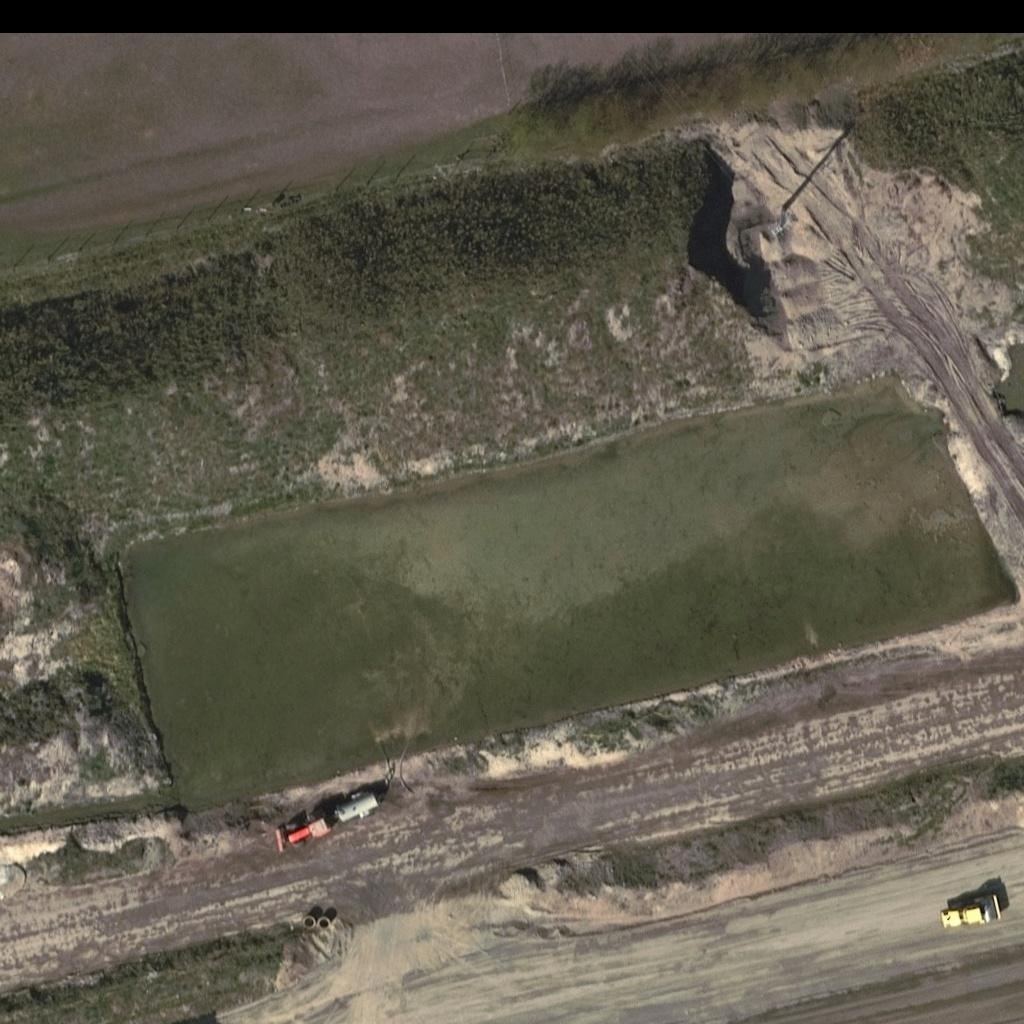spychacz: (270, 790, 384, 857)
